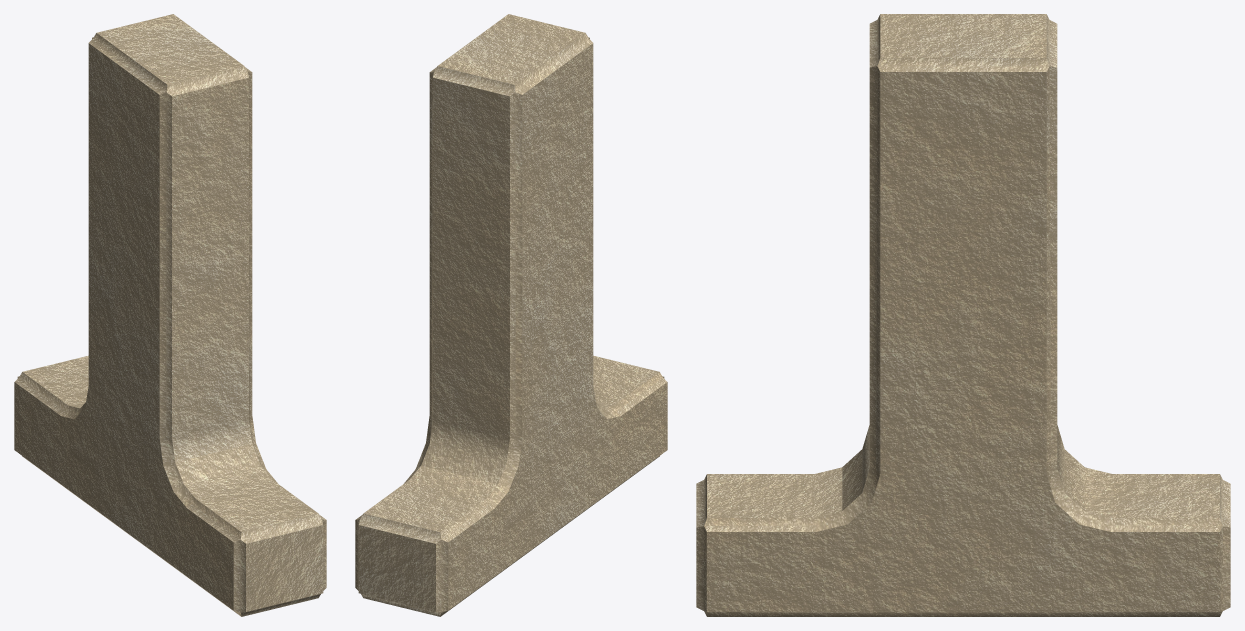
File: geo_Tform.fbx
3 renders of one model, left to right at view 1: azimuth 30°, elevation 25°; view 2: azimuth 150°, elevation 25°; view 3: azimuth 270°, elevation 25°, orthographic. The views are drawn at different scales.
Visible parts, largest first — view 1: geo_Tform_01; view 2: geo_Tform_01; view 3: geo_Tform_01.
Boxes of the visible parts, x1=… form: geo_Tform_01: x1=14, y1=14, x2=326, y2=616; geo_Tform_01: x1=355, y1=14, x2=667, y2=616; geo_Tform_01: x1=696, y1=14, x2=1230, y2=616.
Size of the model in its own units: 33 by 162 by 141.
